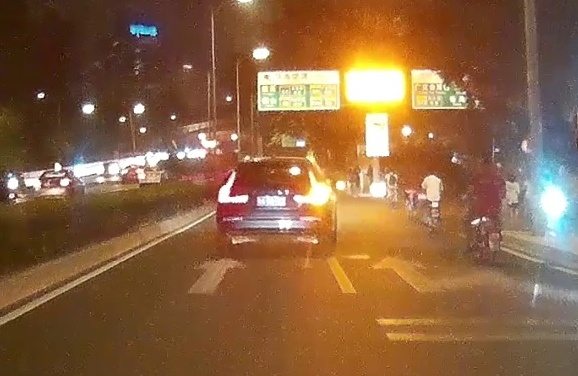L_light: (217, 171, 249, 203)
R_light: (293, 170, 328, 205)
T_light: (263, 161, 281, 167)
night-right: (215, 151, 336, 257)
